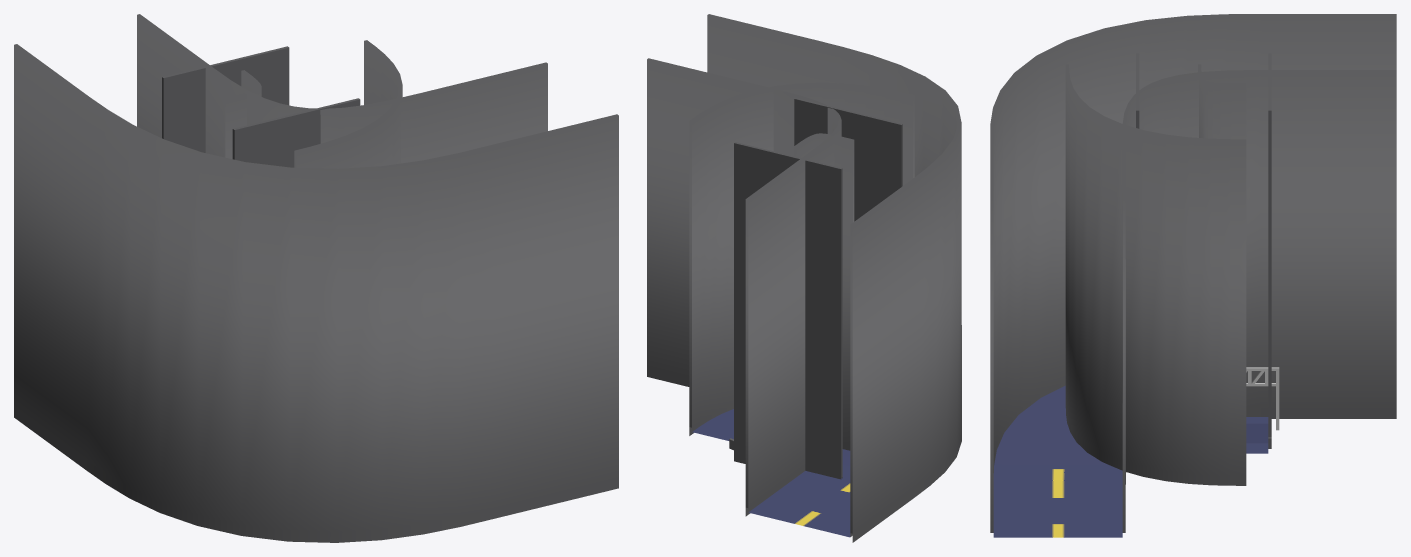
File: Tracks.fbx
3 renders of one model, left to right at view 1: azimuth 30°, elevation 25°; view 2: azimuth 150°, elevation 25°; view 3: azimuth 270°, elevation 25°, orthographic. The views are drawn at different scales.
Visible parts, largest first — view 1: LongCurveTrack1, StraightTrack1, CurveTrack1, LongCurveTrack; view 2: LongCurveTrack1, CurveTrack1, StraightTrack1, LongCurveTrack, CurveTrack; view 3: LongCurveTrack1, CurveTrack1, LongCurveTrack, CurveTrack, StraightTrack1, TLStand, RampTrack.
Part boxes in pixels (<box>): LongCurveTrack1: <box>14,14,618,532</box>; StraightTrack1: <box>162,46,360,167</box>; CurveTrack1: <box>223,40,402,168</box>; LongCurveTrack: <box>14,407,618,542</box>; LongCurveTrack1: <box>647,14,961,533</box>; CurveTrack1: <box>689,82,914,445</box>; StraightTrack1: <box>734,98,902,477</box>; LongCurveTrack: <box>647,367,961,542</box>; CurveTrack: <box>689,404,850,450</box>; LongCurveTrack1: <box>990,14,1396,532</box>; CurveTrack1: <box>1065,64,1246,475</box>; LongCurveTrack: <box>993,381,1396,537</box>; CurveTrack: <box>1065,401,1246,485</box>; StraightTrack1: <box>1136,53,1271,448</box>; TLStand: <box>1246,367,1279,430</box>; RampTrack: <box>1246,423,1271,443</box>.
Bounding box in the file's own units: 4612 × 4461 × 4501.
